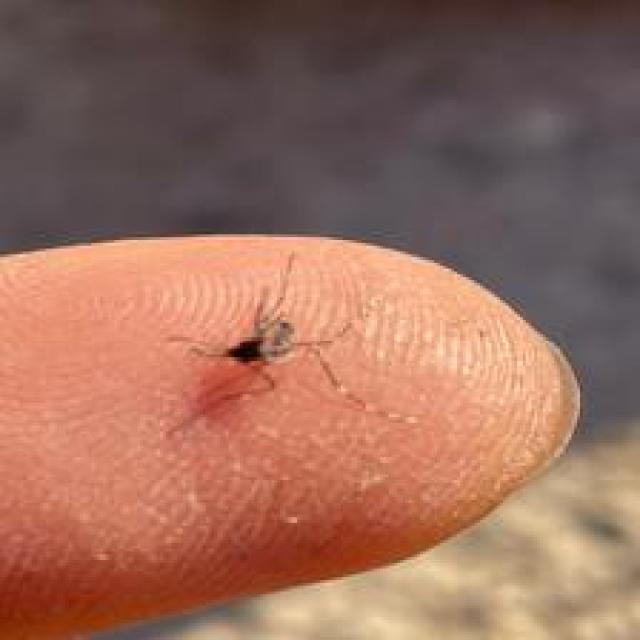Aedes albopictus: (181, 310, 356, 401)
